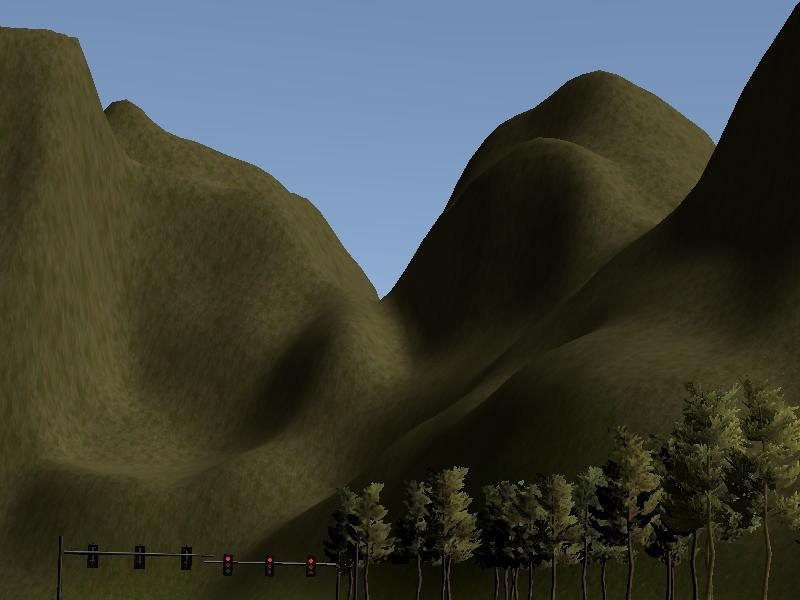Red: (221, 555, 234, 577), (304, 555, 315, 580), (264, 555, 275, 579)
